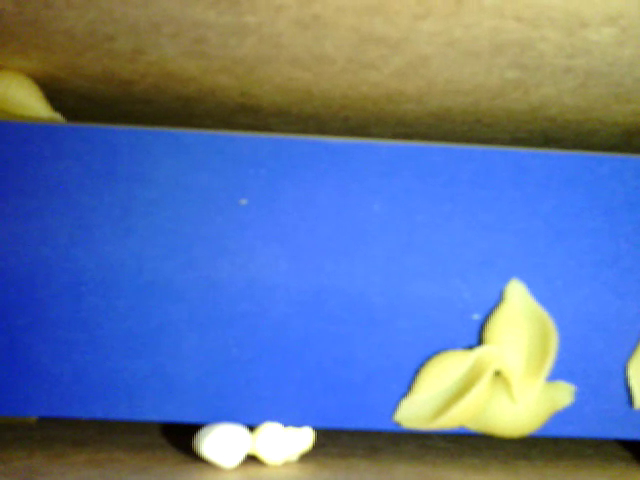shell: (474, 277, 561, 408), (392, 341, 502, 434), (464, 377, 575, 438), (1, 66, 78, 127)
